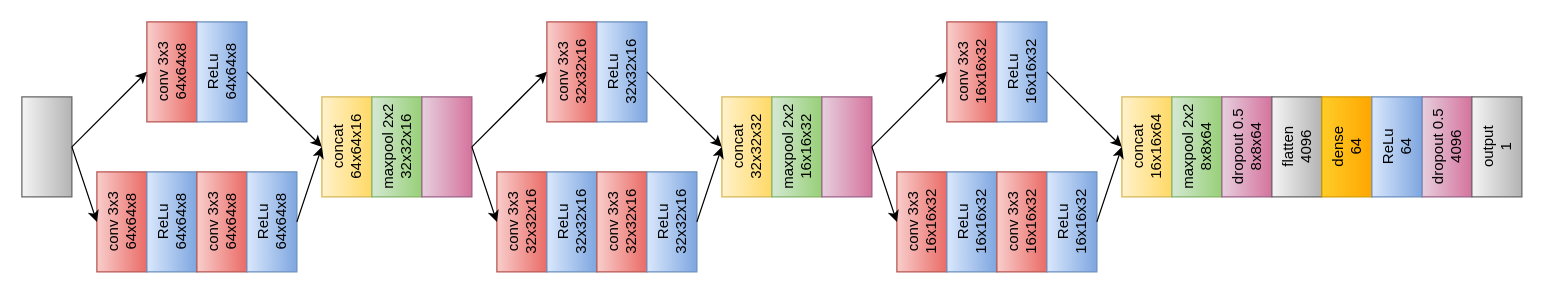
This 1544x294 diagram has some shape labels left out. Each missing label, with the centre of its shape:
"dropout 0.5 16x16x32" belongs at (846,146).
"dropout 0.5 32x32x16" belongs at (446,146).
"input 64x64x3" belongs at (46,146).
